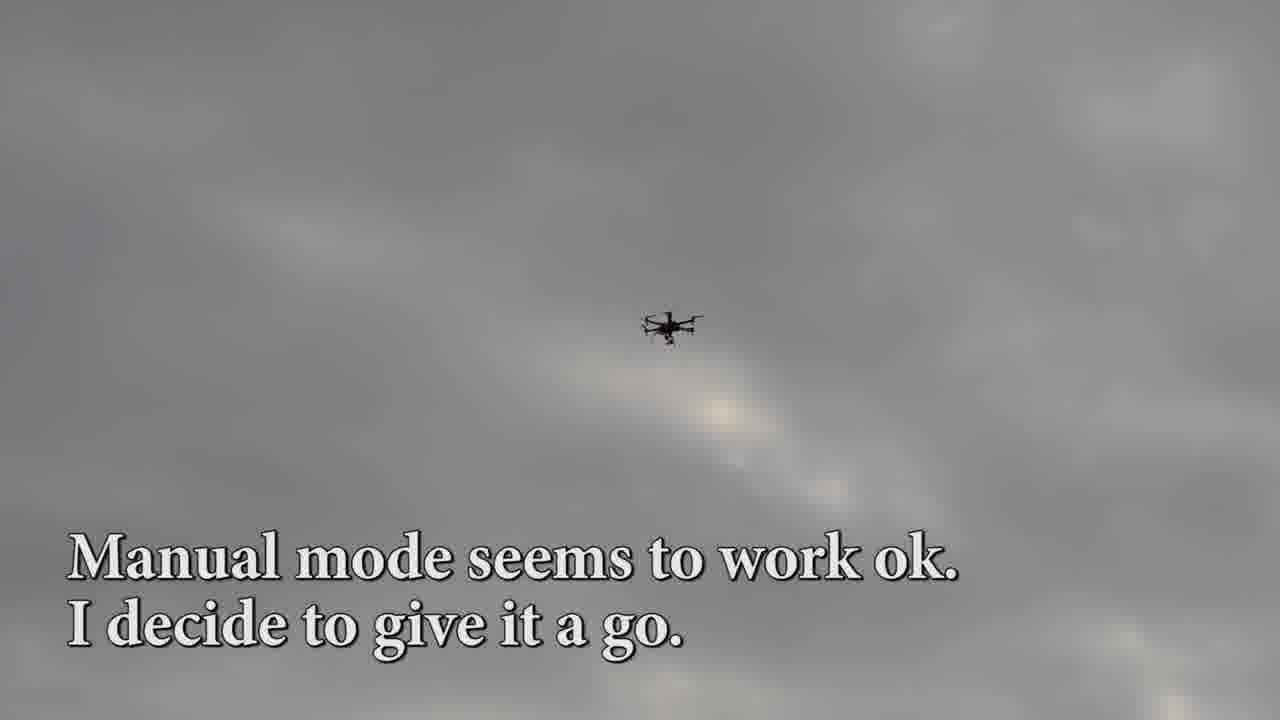drone: (639, 308, 705, 354)
